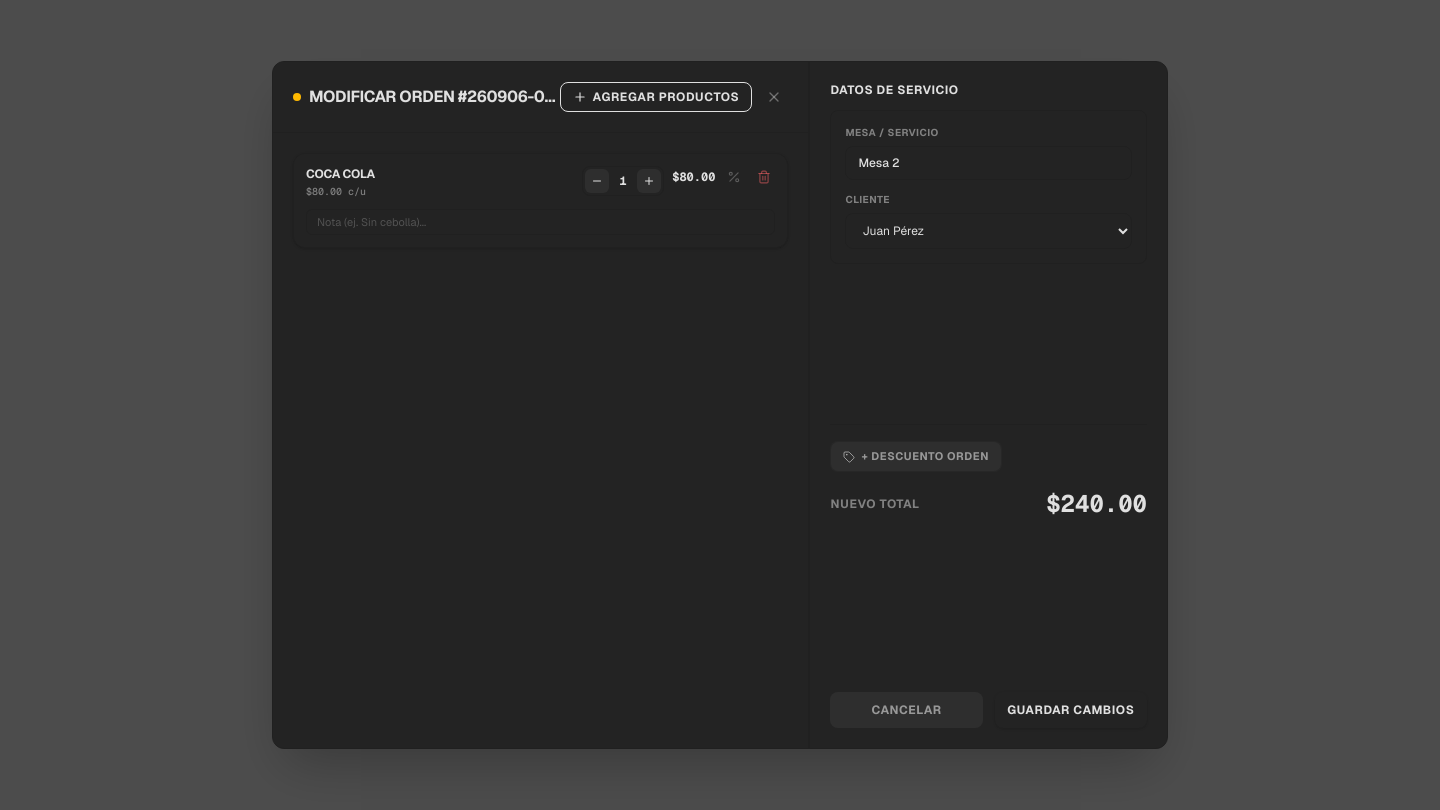
Test: POSModifyOrderModal Component › requires manager authorization if user is waiter and items are reduced
Click the button "Guardar Cambios" at (1071, 710), box [995,692,1147,728]
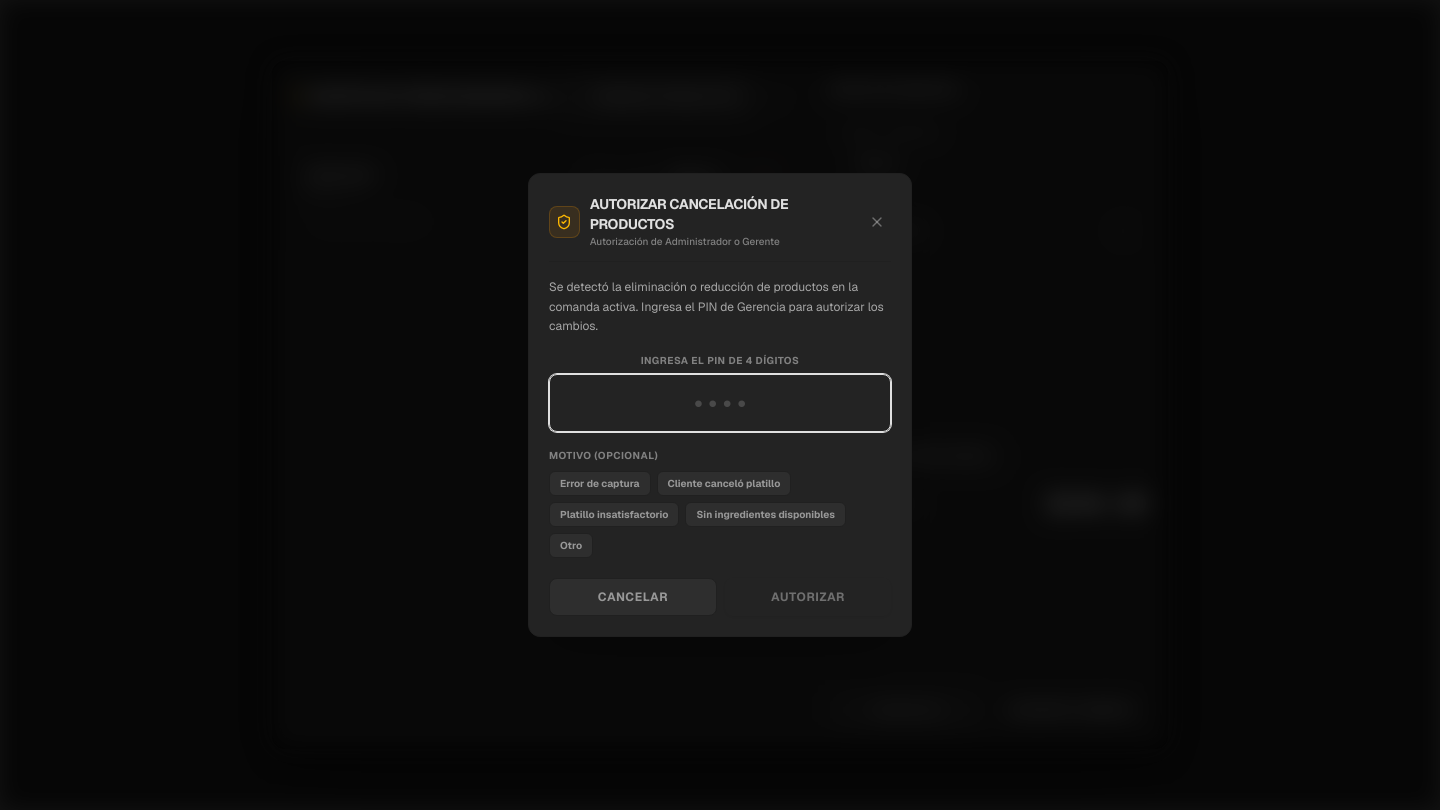
Expected: the heading "Autorizar Cancelación de Productos" is shown, [590,195,788,233]
